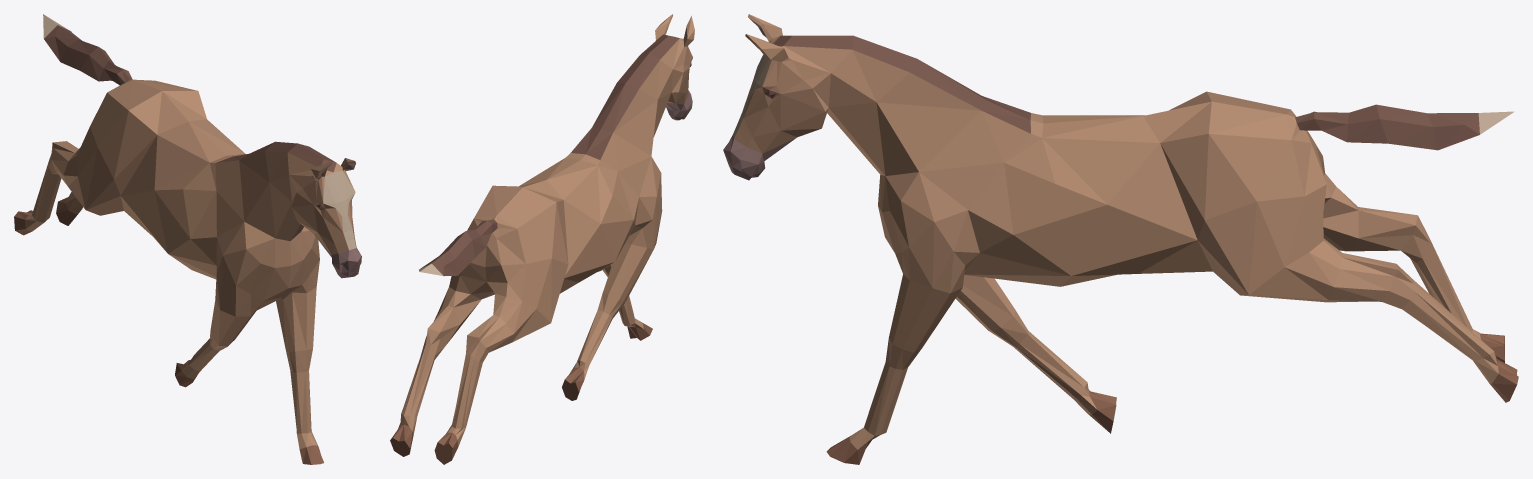
File: Horse.glb
3 views of the same model, side by side, from view 1: azimuth 30°, elevation 25°; view 2: azimuth 150°, elevation 25°; view 3: azimuth 270°, elevation 25° (orthographic). The views are drawn at different scales.
Visible parts, largest first — view 1: mesh_0; view 2: mesh_0; view 3: mesh_0.
Part boxes in pixels (bbox=[...]): mesh_0: bbox=[14, 14, 361, 464]; mesh_0: bbox=[390, 14, 694, 464]; mesh_0: bbox=[723, 14, 1518, 464].
Bounding box in the file's own units: 63.57 × 182 × 302.
